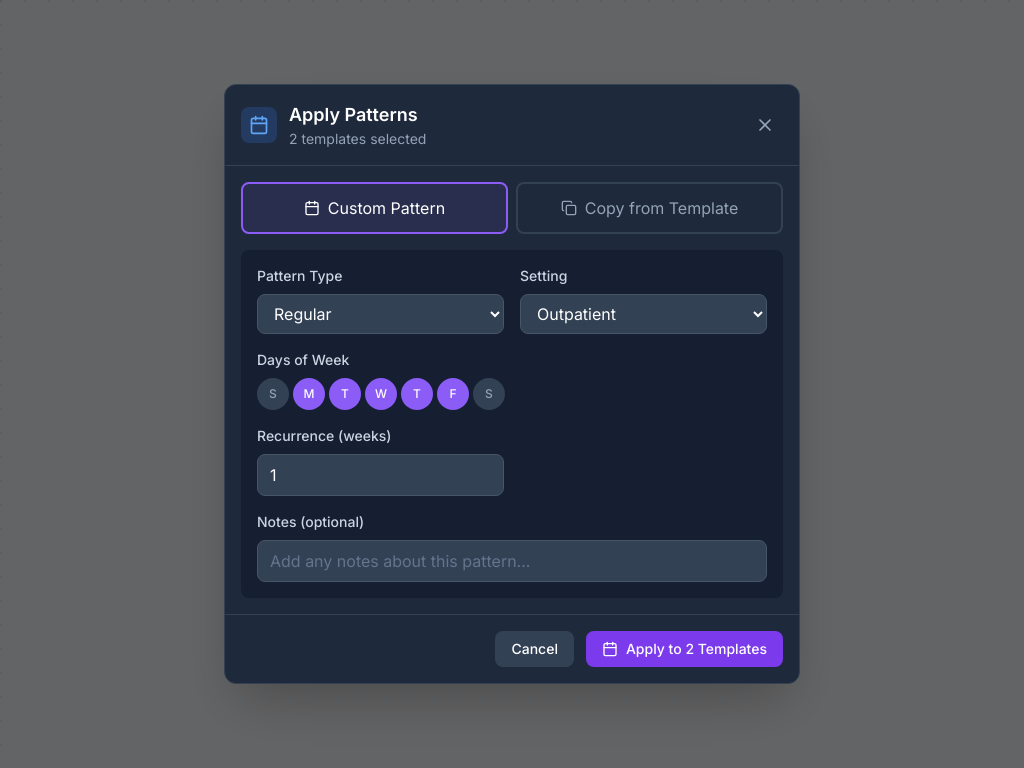
Test: BulkPatternModal › Copy Mode with Pattern Loading › should show message when template has no patterns
Click the button "Copy from Template".
click(650, 208)  # box [516, 182, 783, 234]
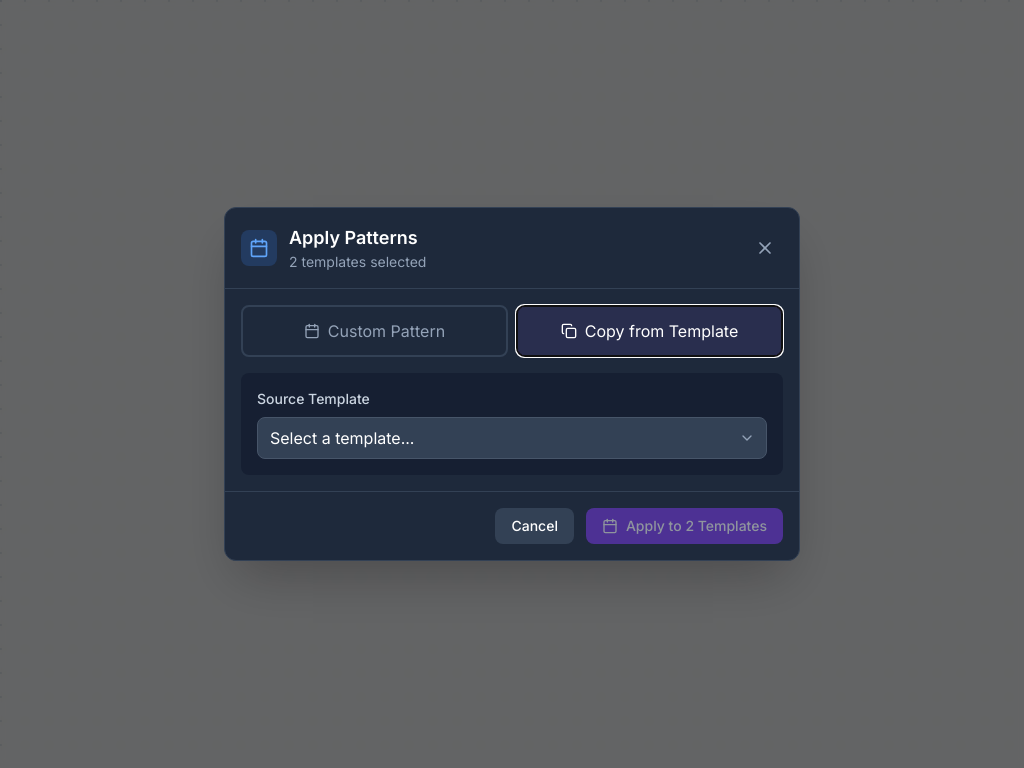
Select "Outpatient Clinic" in the dropdown at [512, 438], box [257, 417, 767, 459]
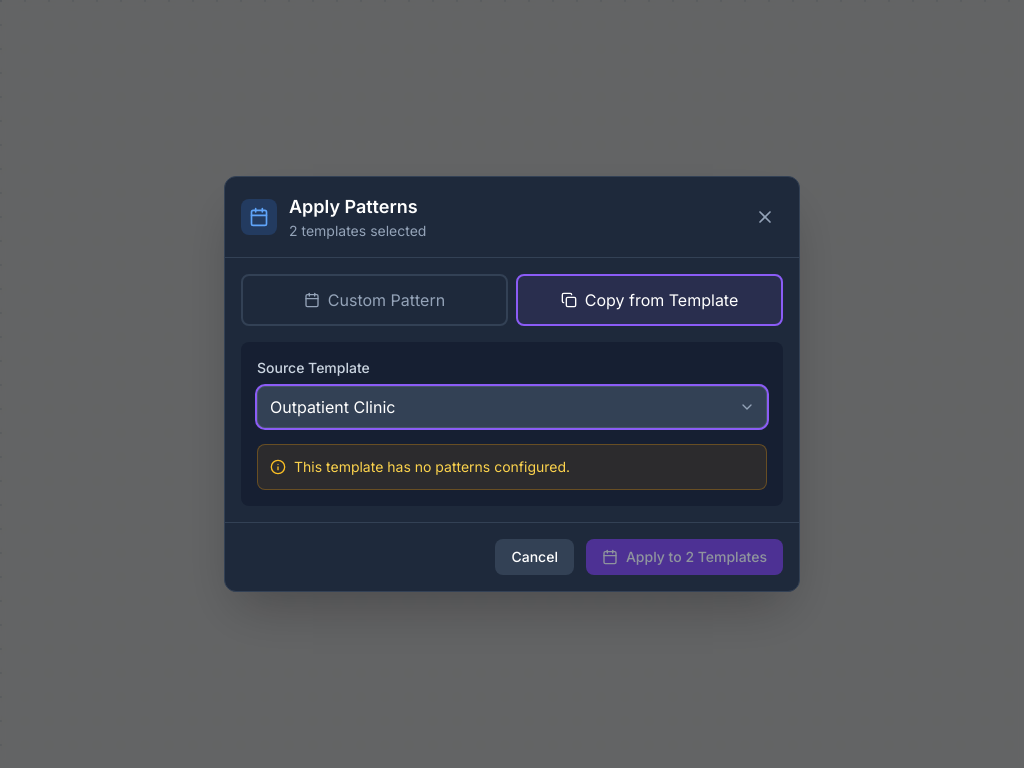
Expected: the text "This template has no patterns configured." is shown, [294, 457, 570, 477]
